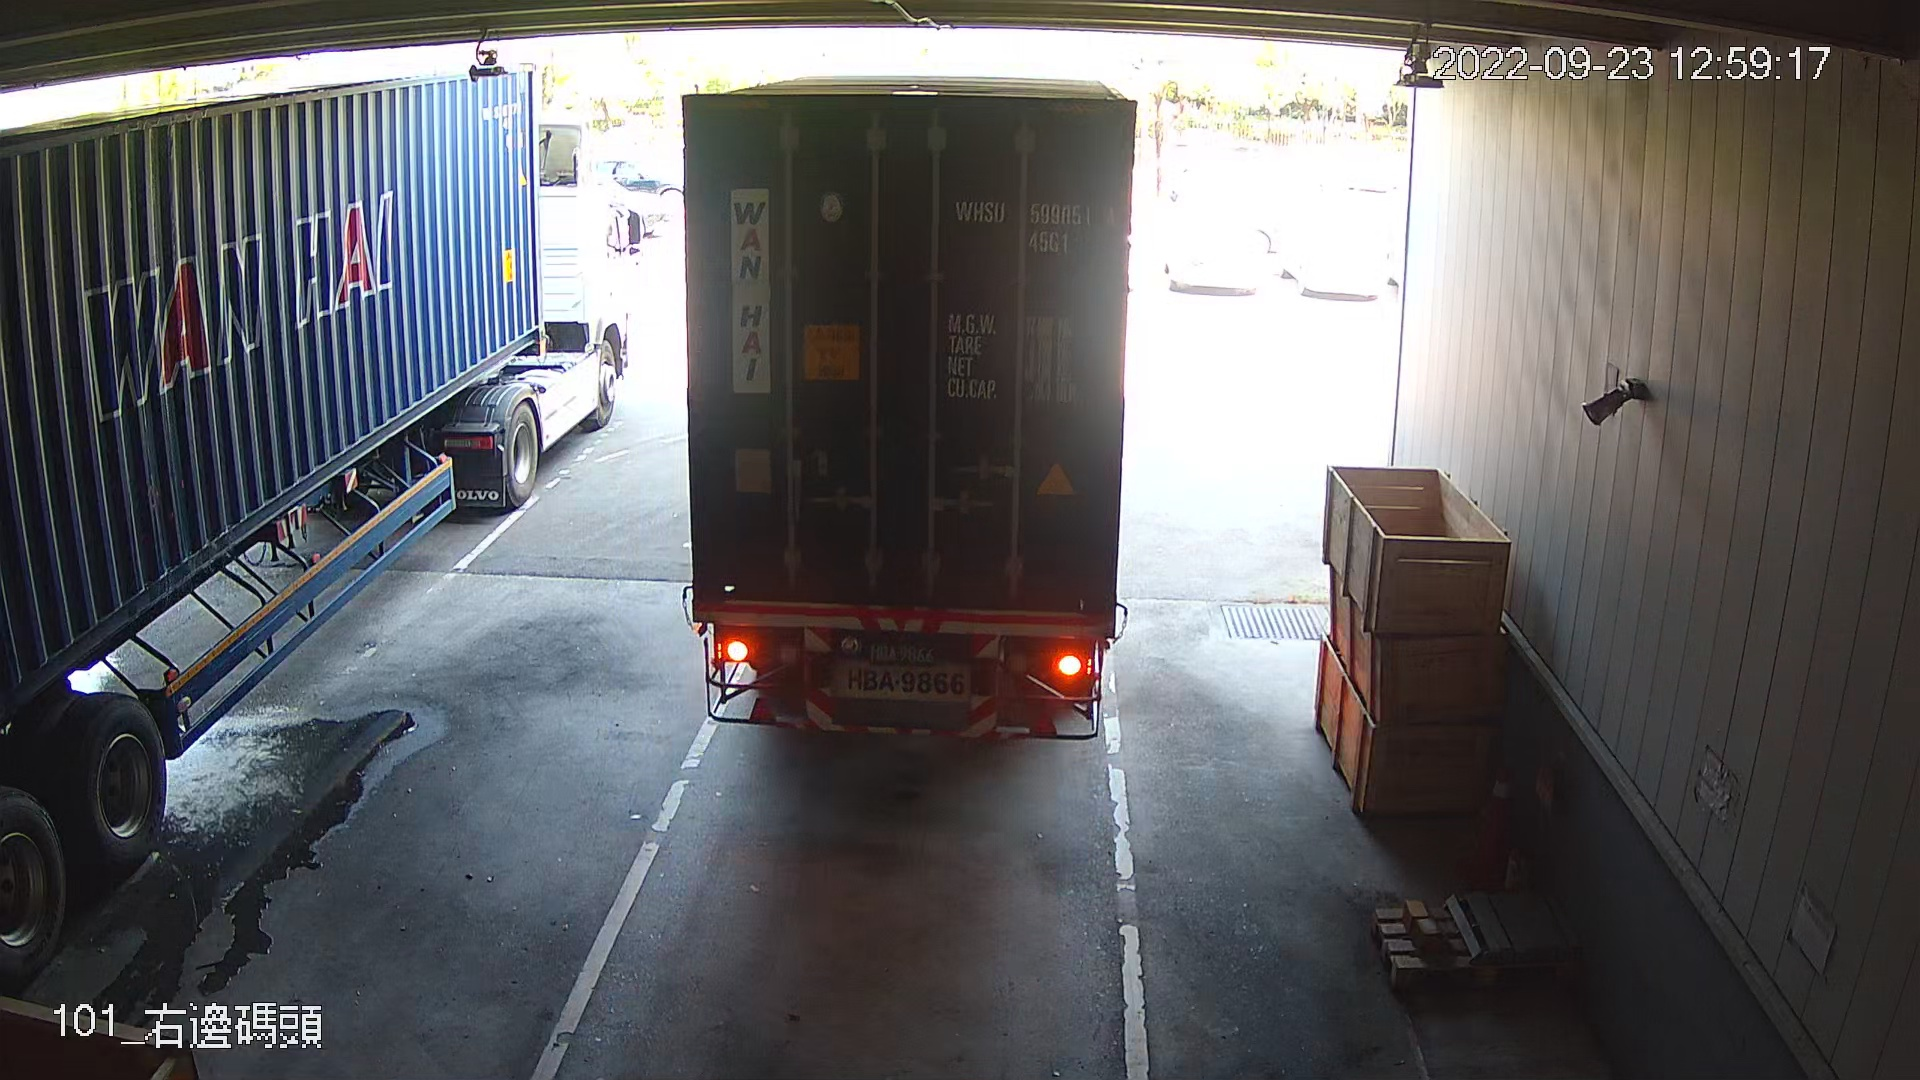container: (951, 185, 1125, 264)
